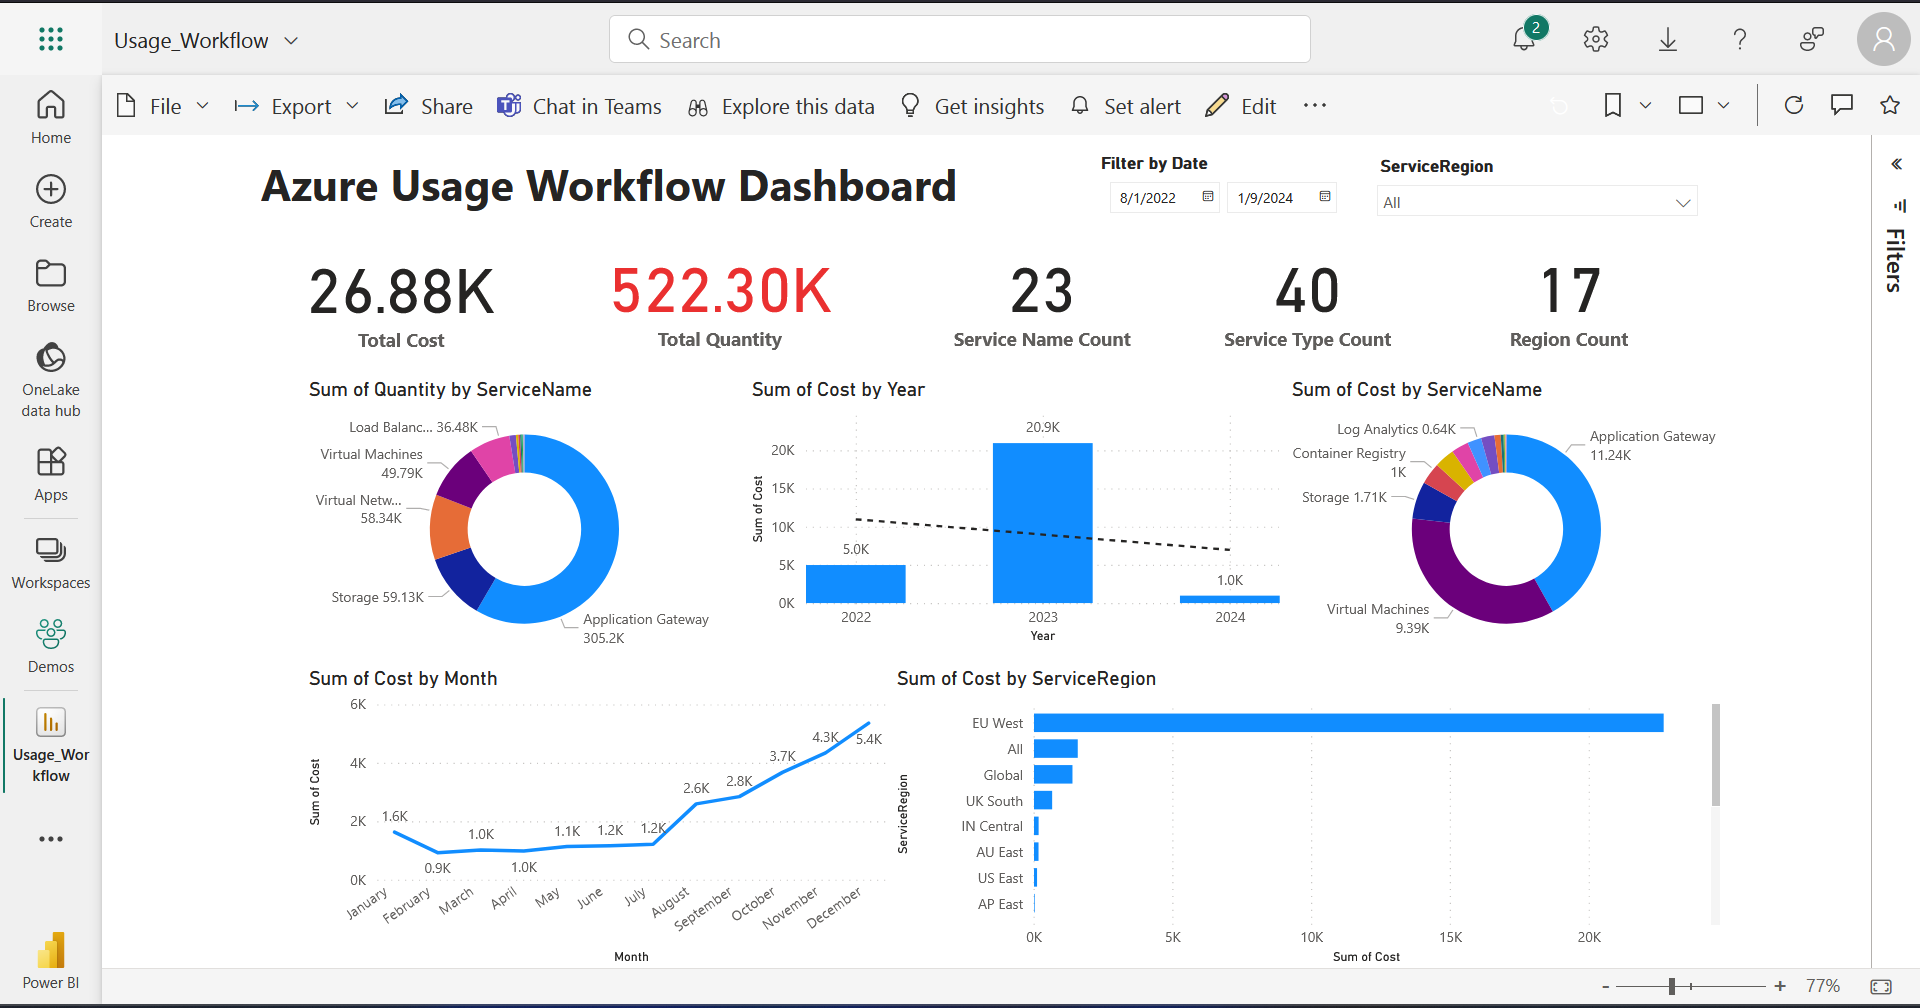

This screenshot's page, from the dashboard's own definition file:
{"tool":"powerbi","page":{"name":"Main","canvas":[1280,720],"ordinal":0},"visuals":[{"type":"textbox","box":[8.1,11.6,632.2,66.3],"z":0},{"type":"card","fields":{"Values":["Sum(AzureUsage_Workxflow_10-01-2024.Cost)"]},"box":[8,77.8,252.4,120.7],"z":1000},{"type":"card","fields":{"Values":["Sum(AzureUsage_Workxflow_10-01-2024.Quantity)"]},"box":[260.4,62.9,297.3,150.6],"z":2000},{"type":"card","fields":{"Values":["AzureUsage_Workxflow_10-01-2024.Service Type Count"]},"box":[768.2,62.9,297.3,150.6],"z":3000},{"type":"card","fields":{"Values":["AzureUsage_Workxflow_10-01-2024.Region Count"]},"box":[1005.6,62.9,274.4,150.6],"z":4000},{"type":"card","fields":{"Values":["AzureUsage_Workxflow_10-01-2024.Service Name Count"]},"box":[539.7,62.9,297.3,150.6],"z":5000},{"type":"clusteredColumnChart","fields":{"Y":["Sum(AzureUsage_Workxflow_10-01-2024.Cost)"],"Category":["AzureUsage_Workxflow_10-01-2024.Date.Variation.Date Hierarchy.Year"]},"box":[431.6,208.7,466.6,234.6],"z":6000},{"type":"lineChart","fields":{"Category":["AzureUsage_Workxflow_10-01-2024.Date.Variation.Date Hierarchy.Month"],"Y":["Sum(AzureUsage_Workxflow_10-01-2024.Cost)"]},"box":[49.3,458.5,508.7,261.5],"z":7000},{"type":"barChart","fields":{"Category":["AzureUsage_Workxflow_10-01-2024.ServiceRegion"],"Y":["Sum(AzureUsage_Workxflow_10-01-2024.Cost)"]},"box":[557.9,458.5,721.8,261.5],"z":8000},{"type":"donutChart","fields":{"Category":["AzureUsage_Workxflow_10-01-2024.ServiceName"],"Y":["Sum(AzureUsage_Workxflow_10-01-2024.Quantity)"]},"box":[49.3,208.7,382.4,244.5],"z":9000},{"type":"slicer","fields":{"Values":["AzureUsage_Workxflow_10-01-2024.ServiceRegion"]},"box":[966.6,11.8,297.7,69.7],"z":10000},{"type":"donutChart","fields":{"Category":["AzureUsage_Workxflow_10-01-2024.ServiceName"],"Y":["Sum(AzureUsage_Workxflow_10-01-2024.Cost)"]},"box":[898.2,208.7,381.5,244.5],"z":11000},{"type":"slicer","title":"Filter by Date","fields":{"Values":["AzureUsage_Workxflow_10-01-2024.Date"]},"box":[733.4,14.3,232.8,69.9],"z":12000}]}

Visuals, with their boxes on the page's 1280x720 design canvas (x1, y1, x2, y2). These are canvas units, not pixel positions in the 1920x1008 screenshot, which may show the page scaled, cropped or inside an application window:
textbox: (8, 12, 640, 78)
card - Sum(AzureUsage_Workxflow_10-01-2024.Cost): (8, 78, 260, 198)
card - Sum(AzureUsage_Workxflow_10-01-2024.Quantity): (260, 63, 558, 214)
card - AzureUsage_Workxflow_10-01-2024.Service Type Count: (768, 63, 1066, 214)
card - AzureUsage_Workxflow_10-01-2024.Region Count: (1006, 63, 1280, 214)
card - AzureUsage_Workxflow_10-01-2024.Service Name Count: (540, 63, 837, 214)
clusteredColumnChart - Sum(AzureUsage_Workxflow_10-01-2024.Cost) x AzureUsage_Workxflow_10-01-2024.Date.Variation.Date Hierarchy.Year: (432, 209, 898, 443)
lineChart - AzureUsage_Workxflow_10-01-2024.Date.Variation.Date Hierarchy.Month x Sum(AzureUsage_Workxflow_10-01-2024.Cost): (49, 458, 558, 720)
barChart - AzureUsage_Workxflow_10-01-2024.ServiceRegion x Sum(AzureUsage_Workxflow_10-01-2024.Cost): (558, 458, 1280, 720)
donutChart - AzureUsage_Workxflow_10-01-2024.ServiceName x Sum(AzureUsage_Workxflow_10-01-2024.Quantity): (49, 209, 432, 453)
slicer - AzureUsage_Workxflow_10-01-2024.ServiceRegion: (967, 12, 1264, 82)
donutChart - AzureUsage_Workxflow_10-01-2024.ServiceName x Sum(AzureUsage_Workxflow_10-01-2024.Cost): (898, 209, 1280, 453)
"Filter by Date" slicer: (733, 14, 966, 84)
